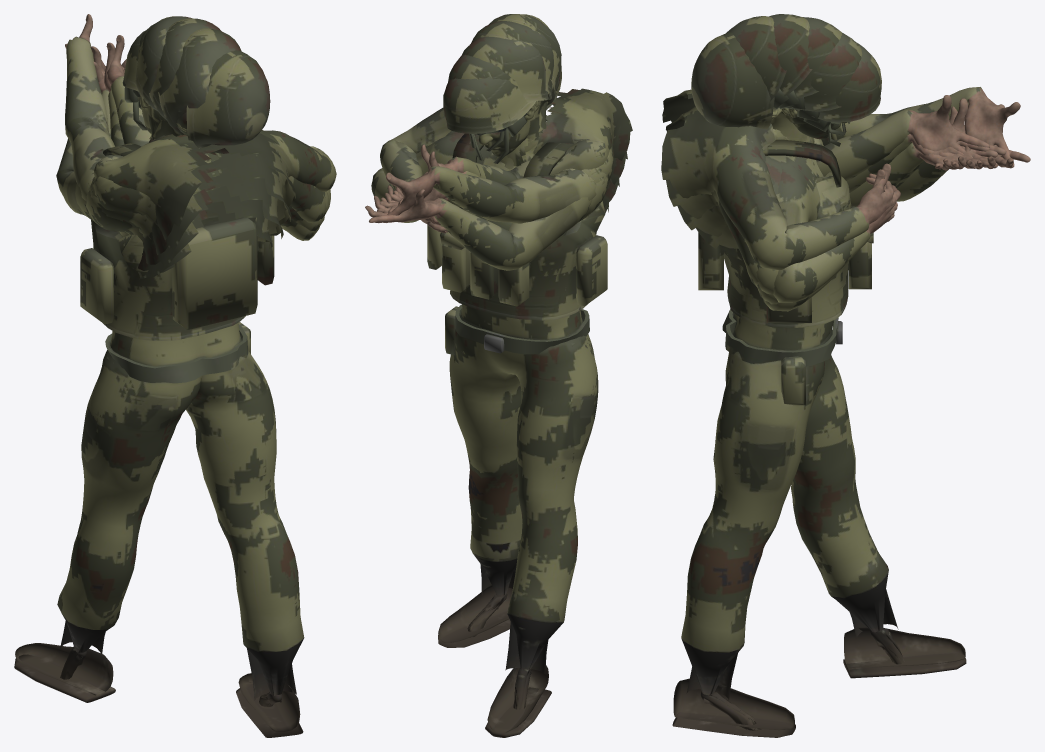
The model's file is crew_igla.glb.
3 views of the same model, side by side, from view 1: azimuth 30°, elevation 25°; view 2: azimuth 150°, elevation 25°; view 3: azimuth 270°, elevation 25° (orthographic). The views are drawn at different scales.
Parts seen in each view (by area): view 1: turret, ca5, ca4, th5, ca1, th4, ca3, ca2, th3, th2, ca0, th0; view 2: turret, ca5, ca0, ca1, th0, th2, th3, th1, th4, ca2, ca4, ca3 (+1 smaller); view 3: turret, ca5, ca0, th5, ca1, ca4, ca3, th0, th4, th1, th3, ca2 (+1 smaller).
Boxes of the visible parts, x1,y1,x2,y2 form: turret: [14, 143, 304, 737]; ca5: [93, 35, 336, 247]; ca4: [93, 42, 326, 254]; th5: [149, 50, 270, 155]; ca1: [65, 14, 319, 279]; th4: [153, 28, 241, 138]; ca3: [89, 61, 329, 267]; ca2: [86, 46, 324, 277]; th3: [149, 18, 220, 122]; th2: [135, 16, 191, 127]; ca0: [56, 44, 330, 236]; th0: [122, 30, 210, 172]; turret: [427, 133, 607, 737]; ca5: [380, 88, 632, 233]; ca0: [365, 134, 592, 270]; ca1: [378, 132, 596, 232]; th0: [443, 76, 542, 163]; th2: [462, 36, 548, 166]; th3: [471, 21, 553, 165]; th1: [448, 54, 539, 168]; th4: [488, 14, 561, 168]; ca2: [377, 131, 608, 231]; ca4: [398, 104, 627, 232]; ca3: [380, 115, 619, 226]; turret: [672, 133, 966, 737]; ca5: [661, 89, 989, 269]; ca0: [773, 104, 1030, 302]; th5: [691, 32, 814, 143]; ca1: [719, 87, 1020, 311]; ca4: [666, 95, 989, 287]; ca3: [677, 106, 998, 294]; th0: [787, 42, 881, 146]; th4: [726, 16, 813, 143]; th1: [781, 32, 862, 141]; th3: [769, 14, 812, 142]; ca2: [696, 98, 1006, 304].
Size of the model in its own units: 0.6801 by 1.82 by 0.8929.
1 material, 1 textured.
